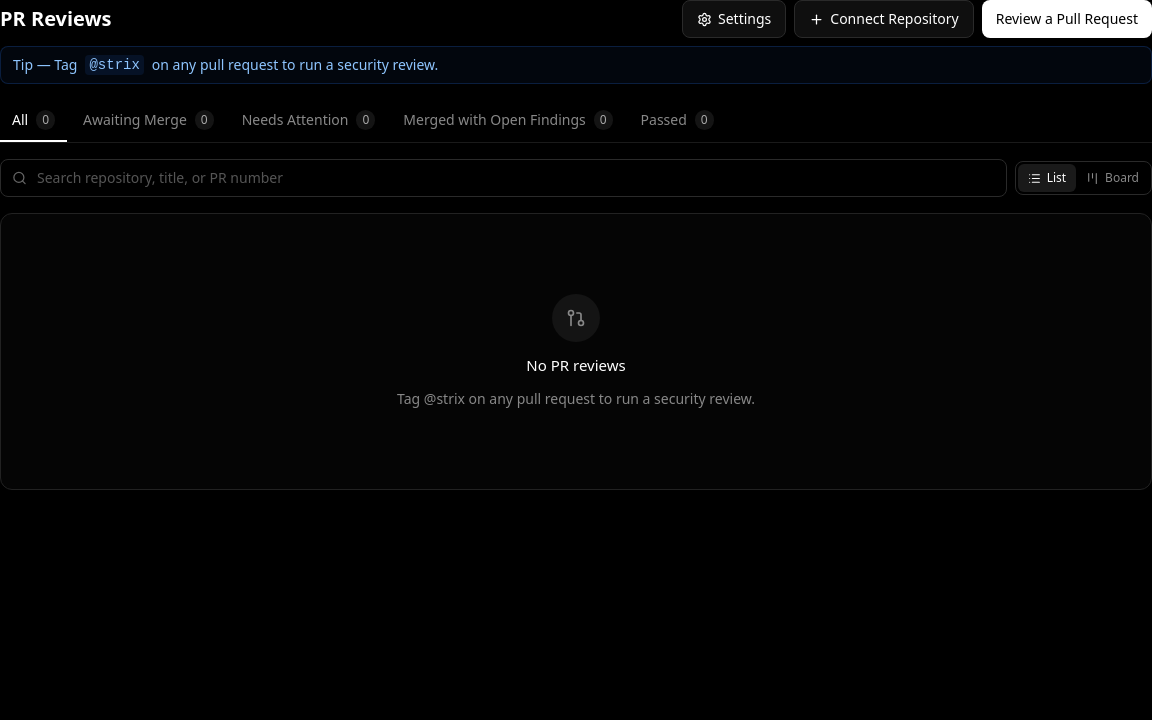
Test: PRReviewsList › settings modal › hides the blocking-severity chips once block_prs_on_findings is off
Click the button "Settings".
click(734, 19)  # box [682, 0, 786, 38]
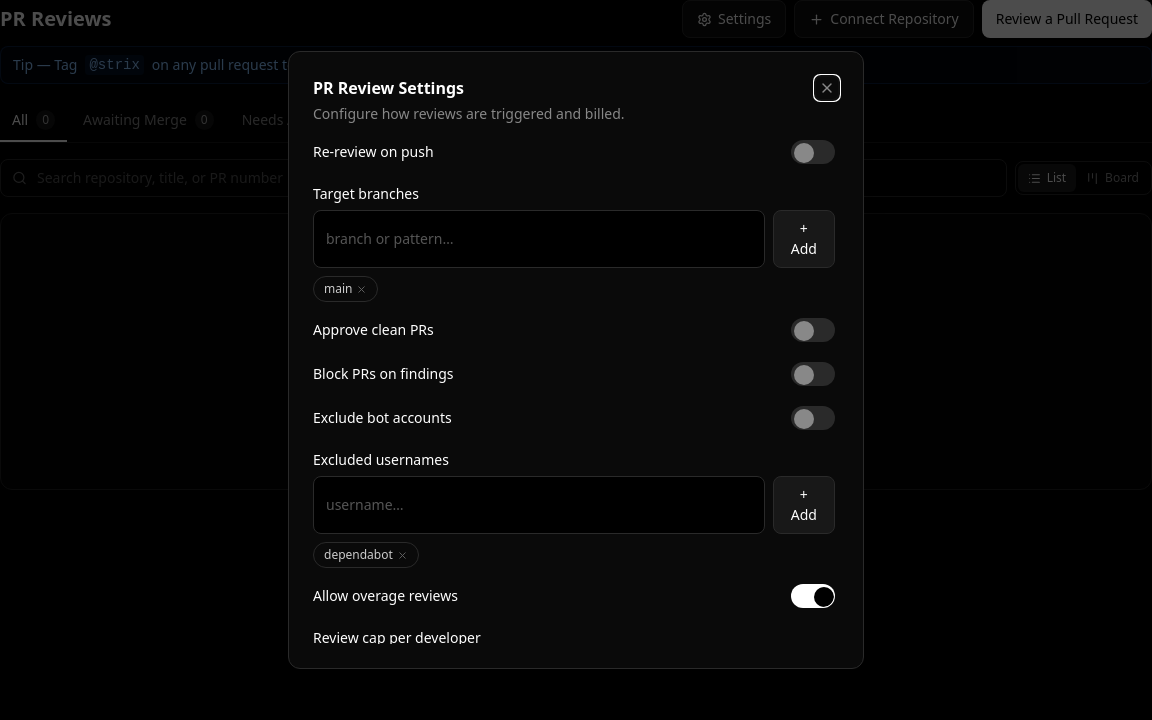
Now the text "Re-review on push" is shown, box [313, 142, 434, 162]
